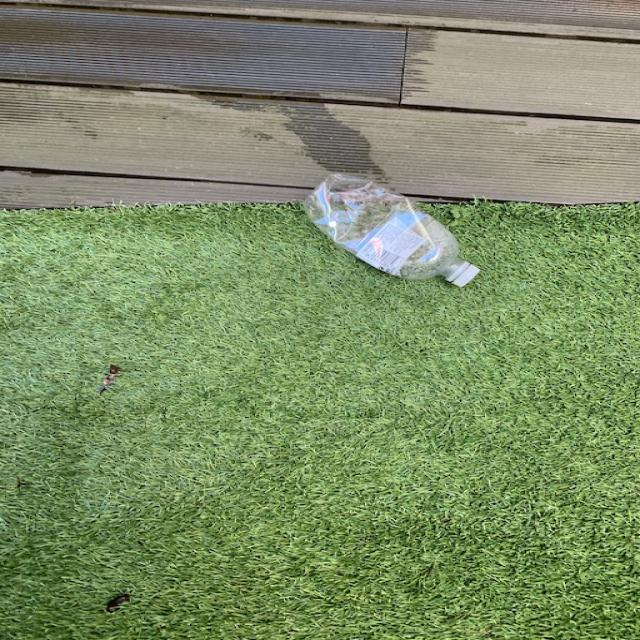litter: (301, 175, 484, 294)
